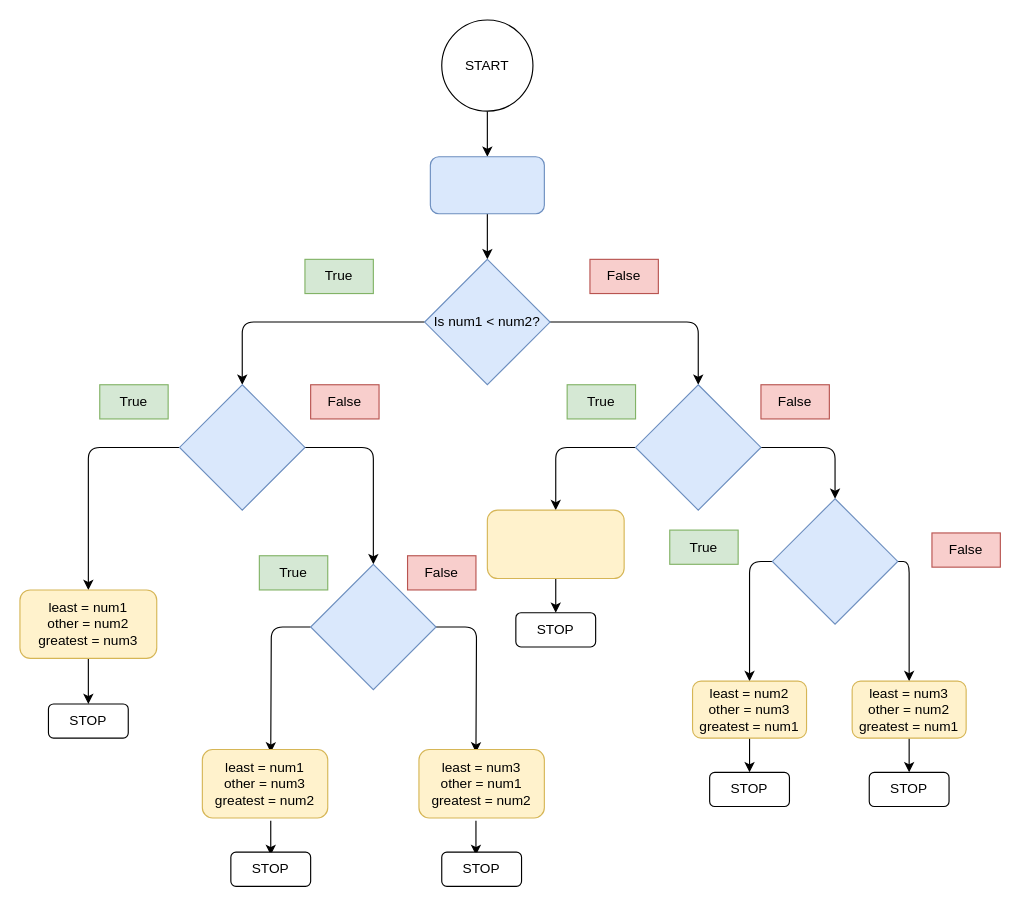
The diagram is 1020 pixels wide and 906 high, and some of its shapes have lost their labels. The shapes that lost their labels are listed below. From the top down, each one's centre as x and y in pixels, then its label:
pixel 486 185: Define num1, num2, num3
pixel 241 447: Is num2 < num3
pixel 697 447: Is num1 < num3
pixel 555 544: least = num2 other = num1 greatest = num3
pixel 834 561: Is num2 < num3?
pixel 373 626: Is num1 < num3?
